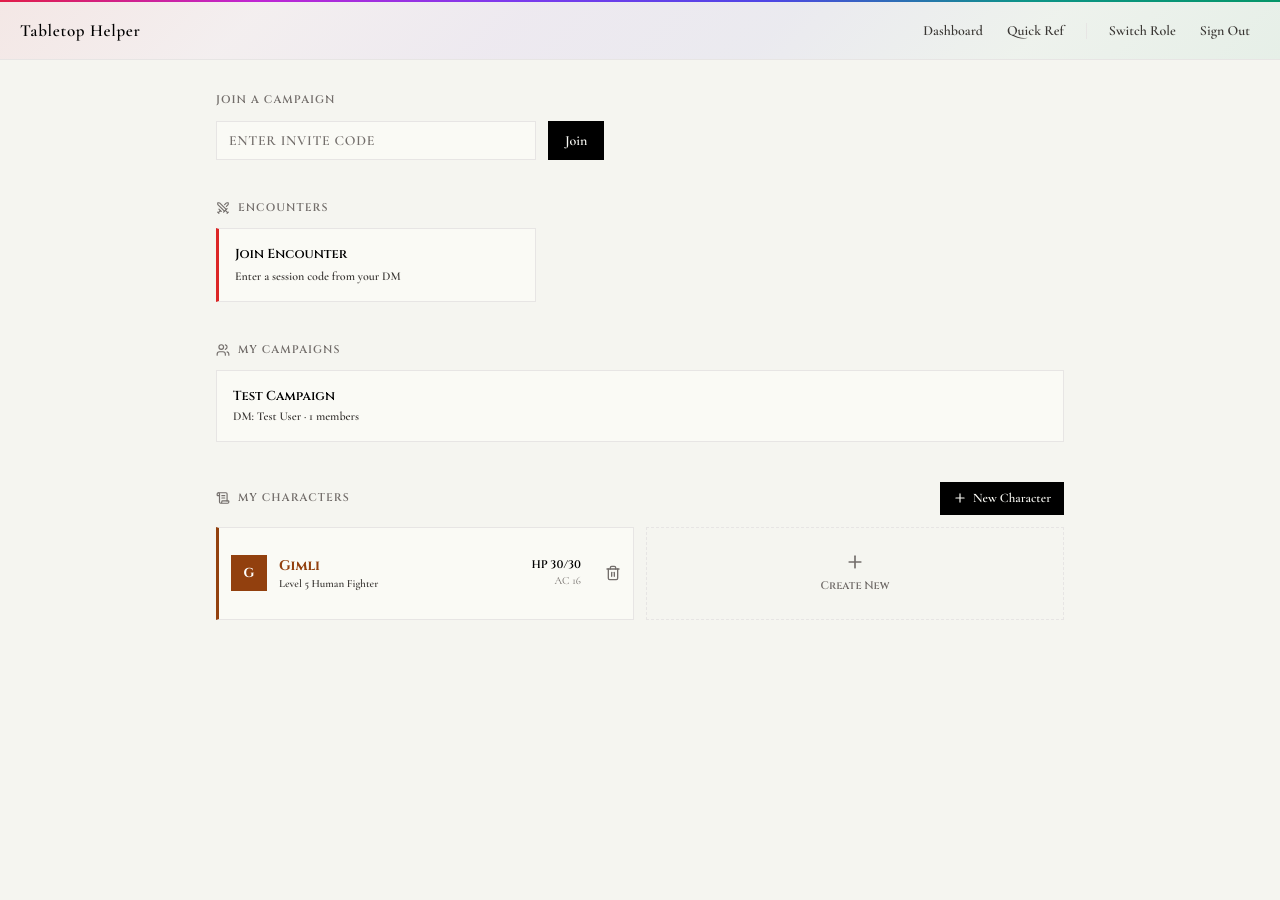
Test case: PlayerDashboard › closes delete modal on Cancel
Expected: the heading "Gimli" is shown, top-left (279, 556), bottom-right (320, 574)
What coordinates should you click on to do the following:
click the button titled "Delete character"
I would click on:
 (613, 573)
Its box is top-left (593, 528), bottom-right (633, 618).
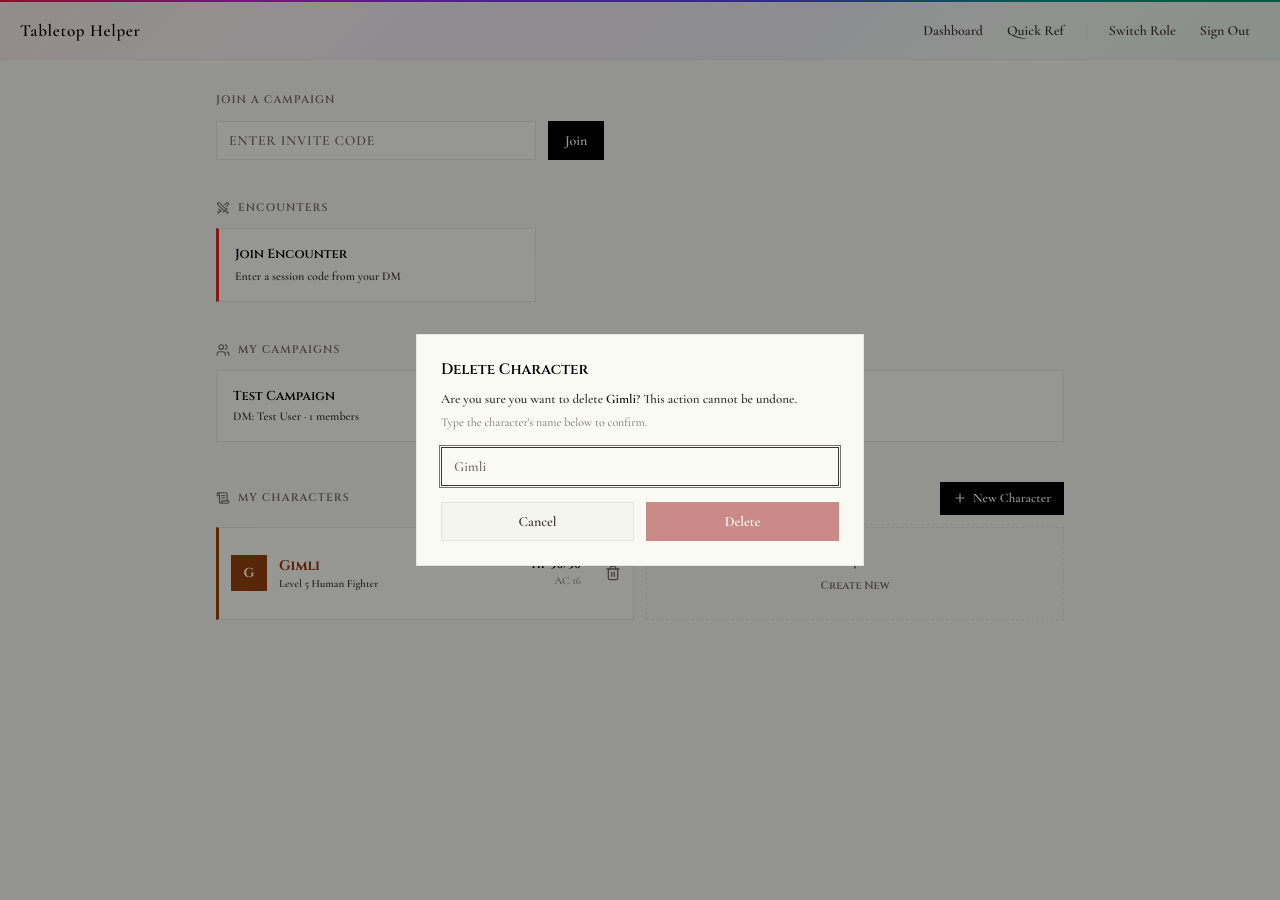
Expected: the dialog is shown, top-left (416, 334), bottom-right (864, 566)
What coordinates should you click on to do the following:
click the button "Cancel"
I would click on:
 (538, 522)
Its box is top-left (441, 502), bottom-right (634, 541).
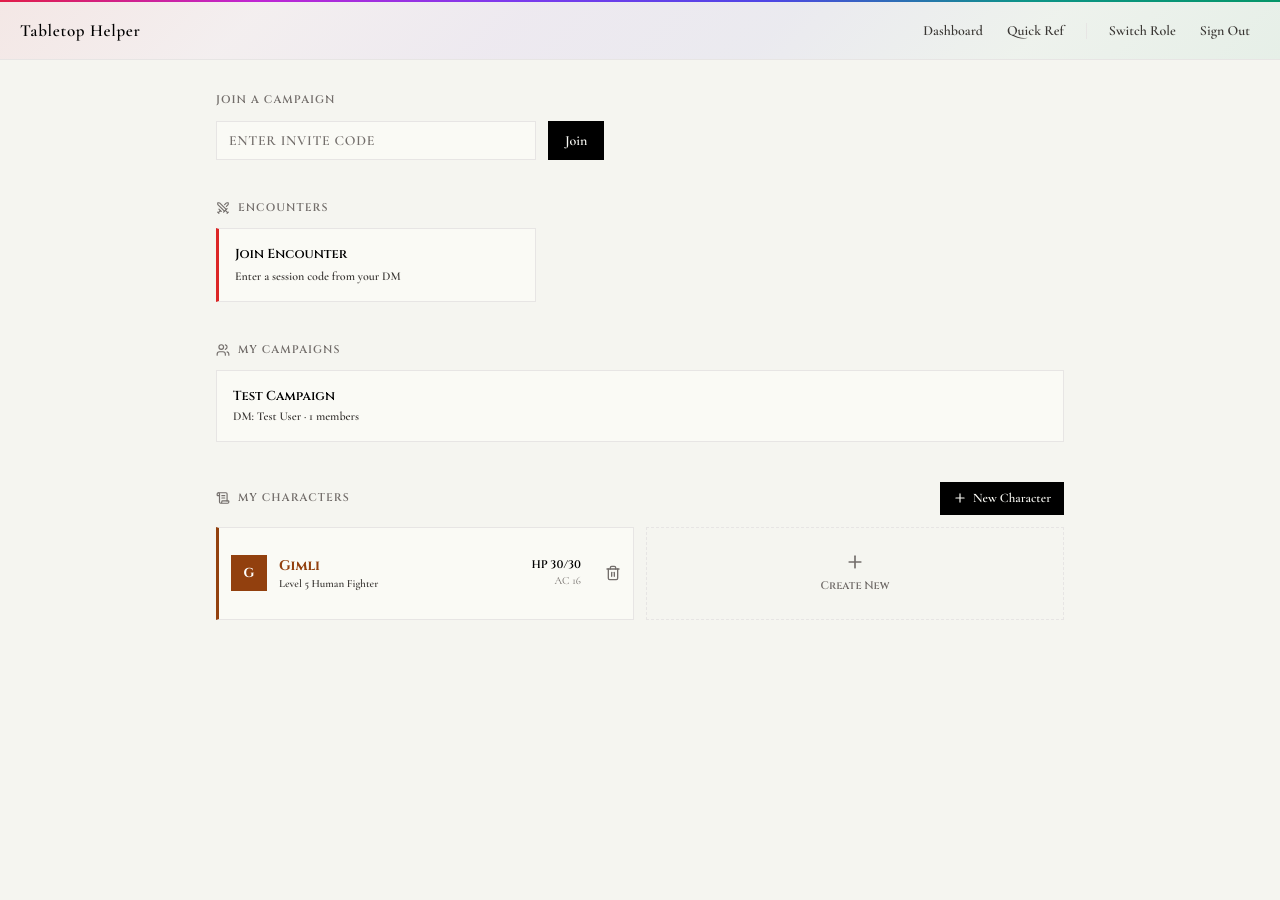
Expected: the dialog is gone
